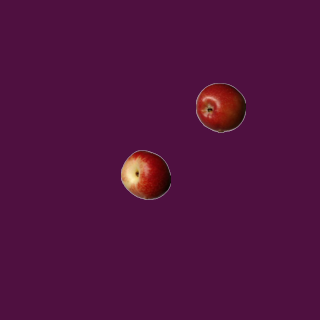Apple Braeburn: (195, 82, 245, 132)
Nectarine: (120, 149, 170, 199)
